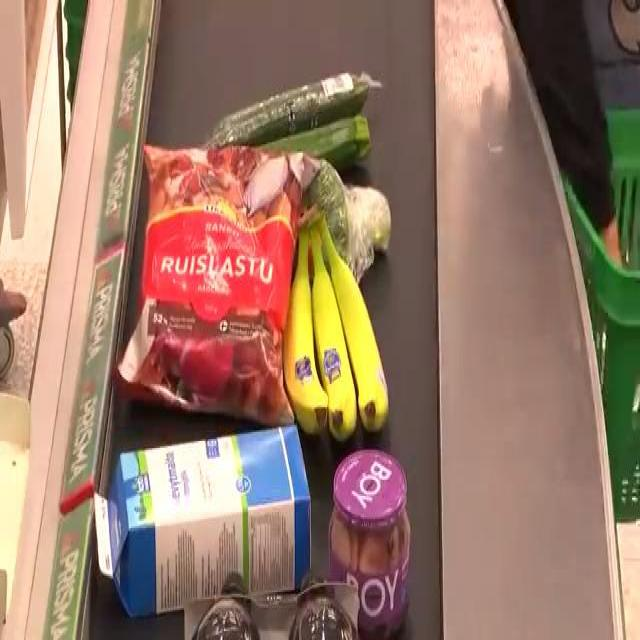beverage: (90, 424, 316, 618), (182, 567, 362, 640)
food-box: (138, 144, 298, 439), (319, 450, 416, 640), (215, 68, 380, 168)
fruit: (282, 214, 396, 442)
vegetable: (284, 166, 404, 286)
